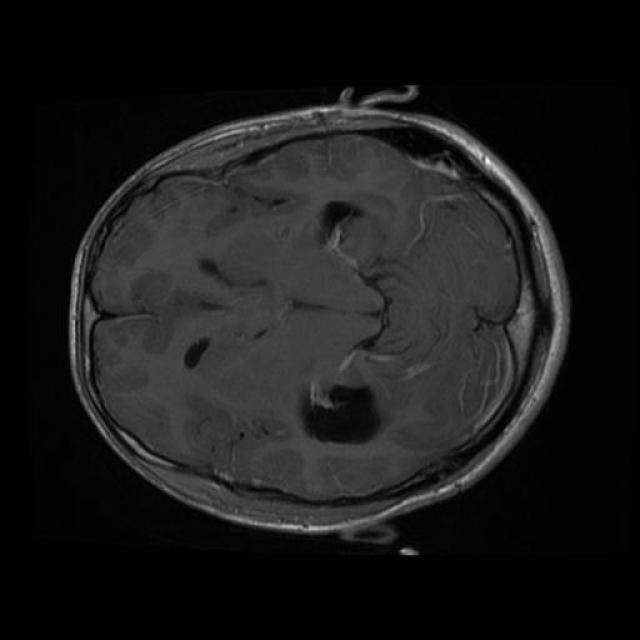Glioma: (302, 386, 380, 441)
